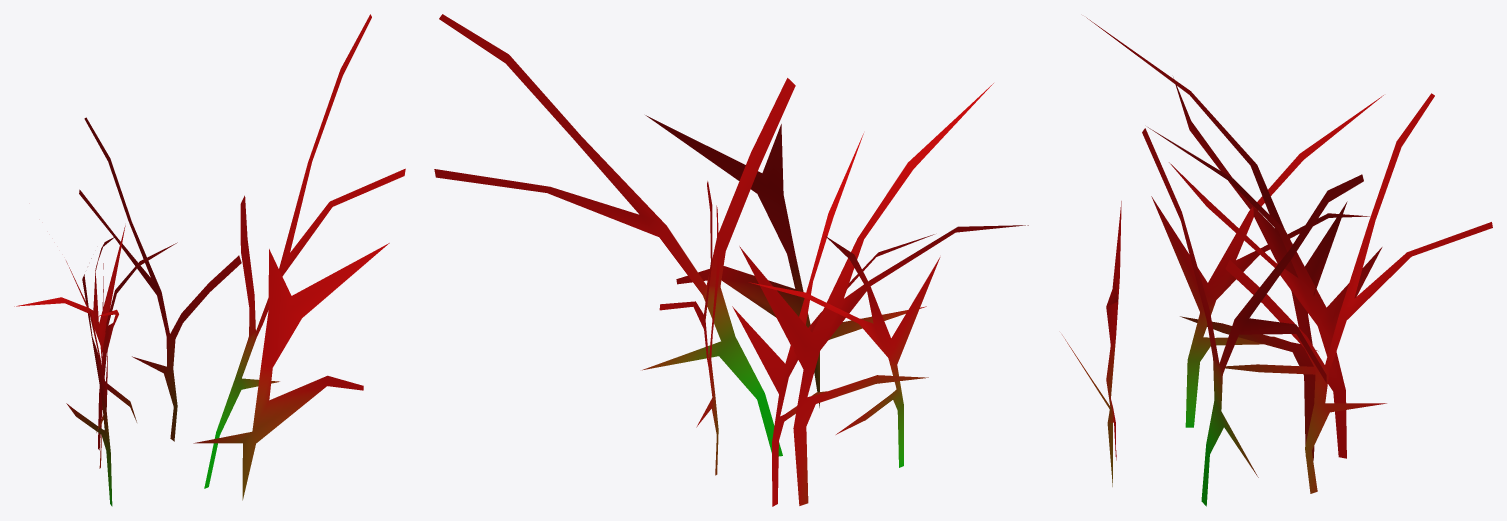
The model's file is Kikuyu Grass_LOD4_Var16_wiljearqx.fbx.
The picture shows the model from 3 angles, left to right: view 1: azimuth 30°, elevation 25°; view 2: azimuth 150°, elevation 25°; view 3: azimuth 270°, elevation 25°; orthographic projection. The views are drawn at different scales.
Parts seen in each view (by area): view 1: _3329_Var16_LOD4; view 2: _3329_Var16_LOD4; view 3: _3329_Var16_LOD4.
Boxes of the visible parts, bbox=[...] form: _3329_Var16_LOD4: bbox=[14, 14, 405, 506]; _3329_Var16_LOD4: bbox=[434, 14, 1028, 506]; _3329_Var16_LOD4: bbox=[1062, 17, 1492, 506].
Bounding box in the file's own units: 20.27 × 15.98 × 13.4.
